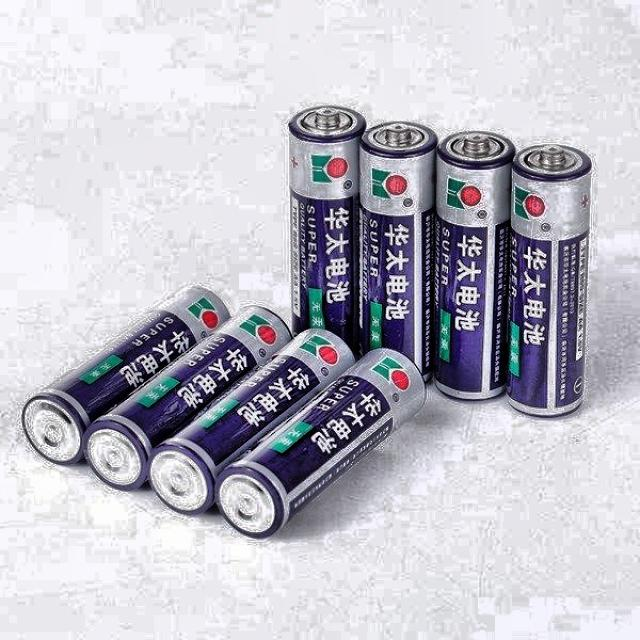Non-Valuable Waste - Batteries: (216, 349, 425, 537), (84, 308, 291, 490), (150, 330, 354, 514), (22, 288, 229, 463), (508, 145, 591, 416), (435, 131, 515, 399), (360, 122, 438, 379), (289, 106, 365, 349)
